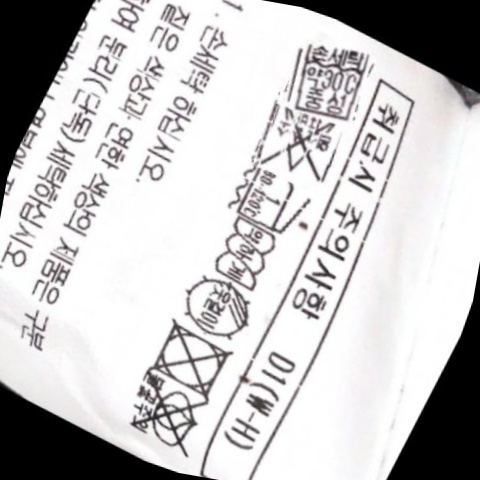DN_tumble_dry: (138, 312, 243, 404)
hand_wash: (278, 32, 379, 128)
iron_low: (228, 160, 315, 241)
line_dry_in_shade: (169, 266, 267, 349)
wring: (206, 212, 282, 296)
